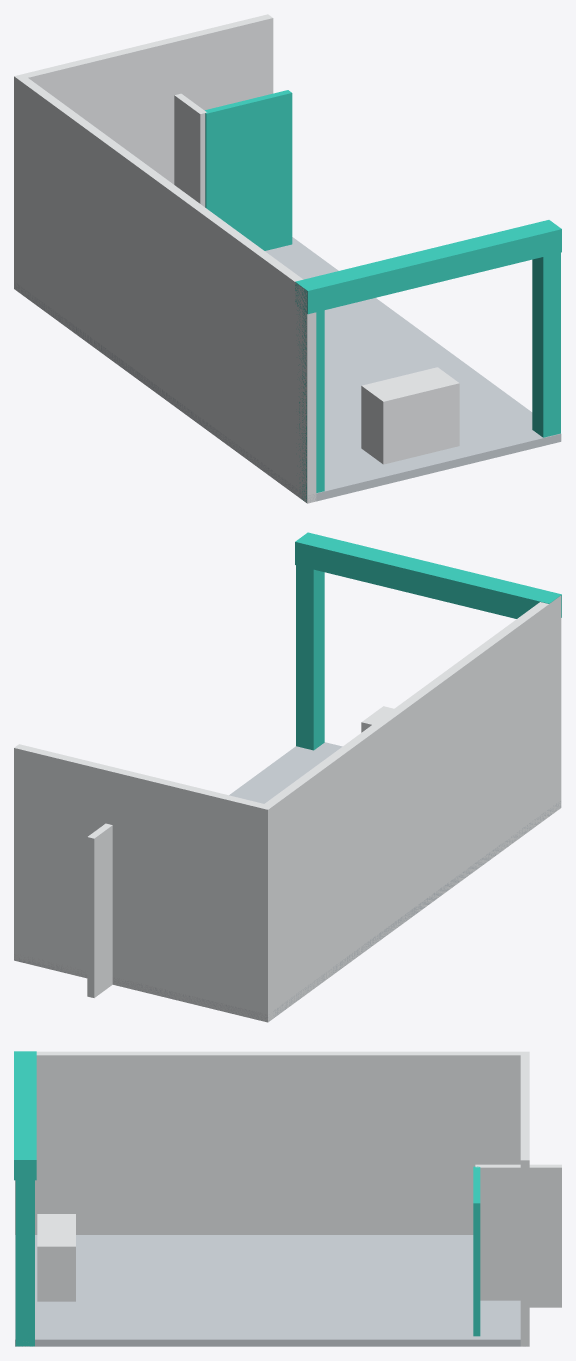
3 renders of one model, top to bottom at view 1: azimuth 30°, elevation 25°; view 2: azimuth 150°, elevation 25°; view 3: azimuth 270°, elevation 25°, orthographic. The views are drawn at different scales.
Visible parts, largest first — view 1: Exhibition Booth Concept; view 2: Exhibition Booth Concept; view 3: Exhibition Booth Concept.
Boxes of the visible parts, x1,y1,x2,y2 form: Exhibition Booth Concept: (14,14,561,503); Exhibition Booth Concept: (14,532,561,1022); Exhibition Booth Concept: (14,1051,561,1346).
Bounding box in the file's own units: 4 × 3.2 × 8.52.
